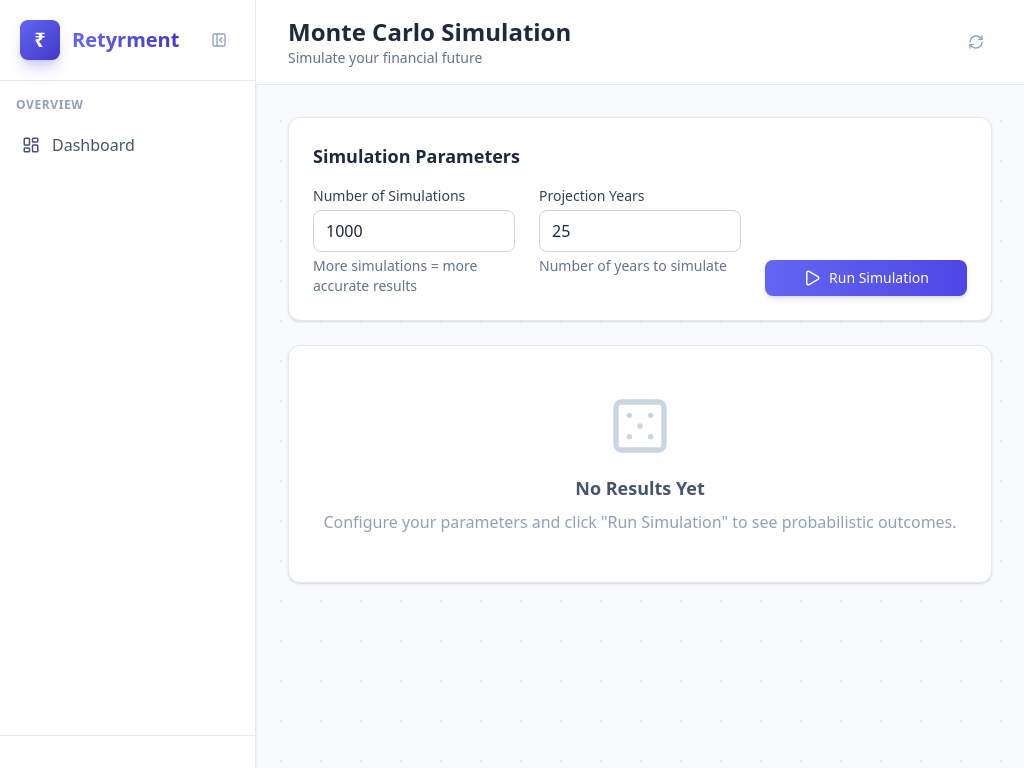
Test: Simulation › Running Simulation › displays results after successful simulation
This screenshot has width=1024, height=768.
Click the button "Run Simulation" at (866, 278), box top-left (765, 260), bottom-right (967, 296)
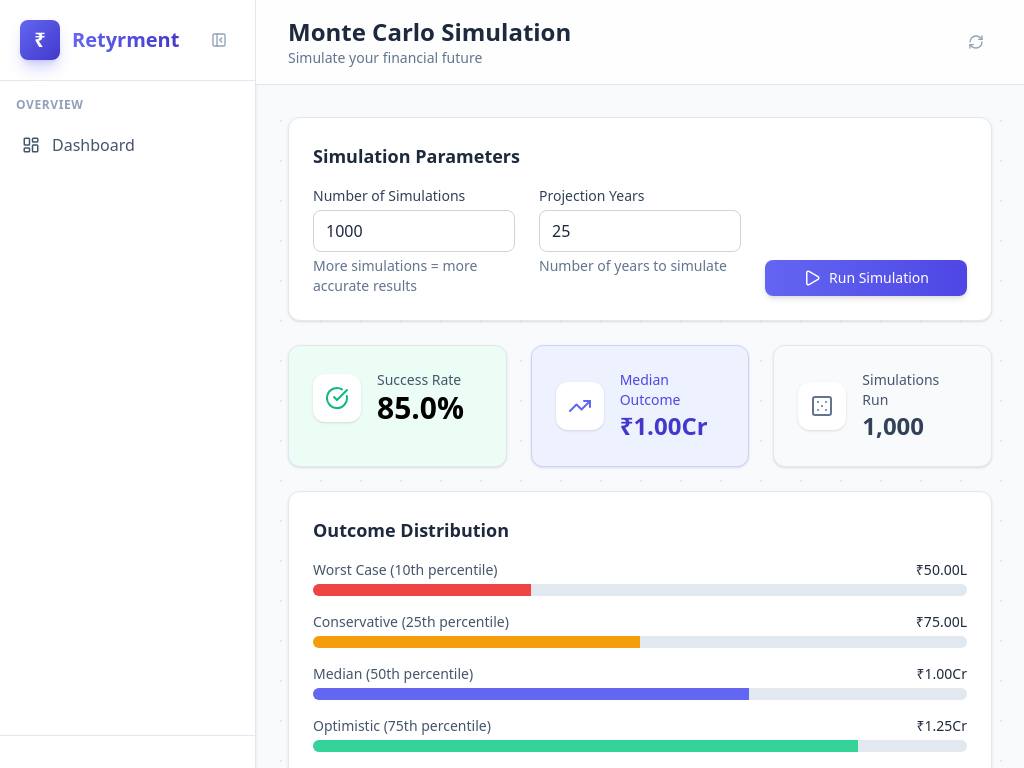
expect the text "Success Rate" is shown: met, box top-left (377, 370), bottom-right (464, 390)
